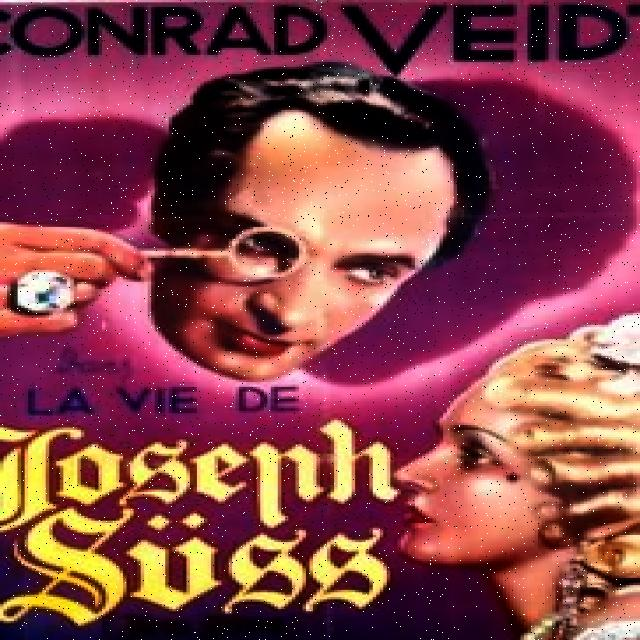movie-judul: (3, 419, 404, 638)
picture: (0, 60, 492, 380), (401, 313, 636, 640)
